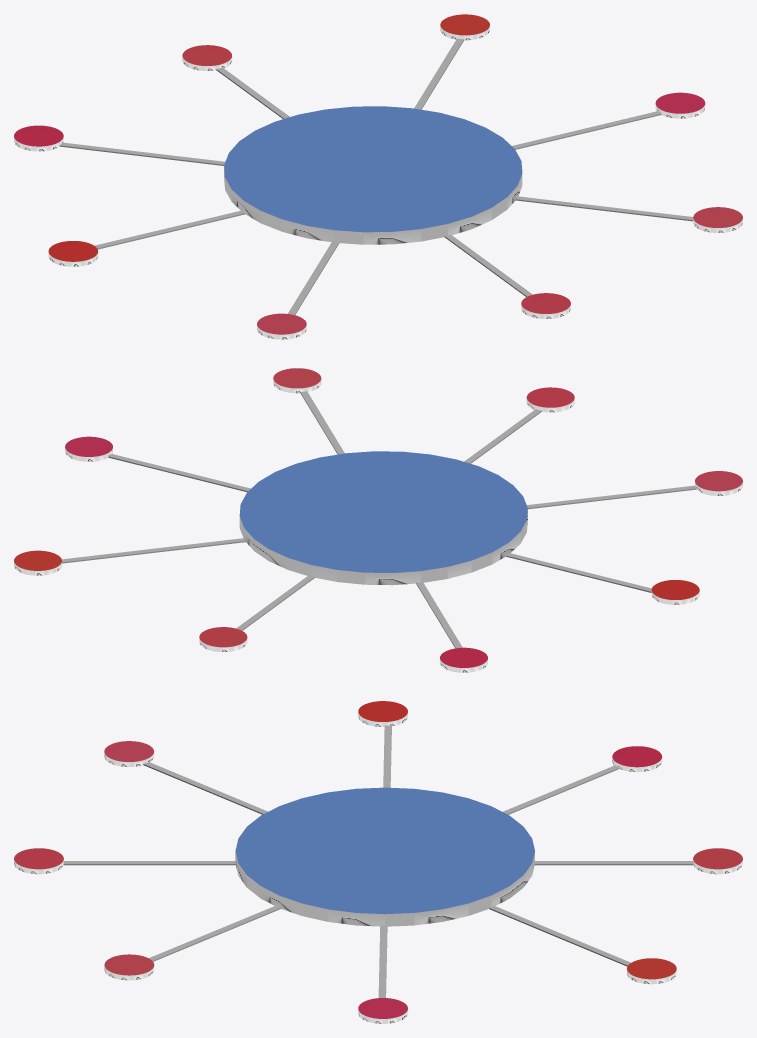
The model's file is showroom.glb.
3 views of the same model, one above another, from view 1: azimuth 30°, elevation 25°; view 2: azimuth 150°, elevation 25°; view 3: azimuth 270°, elevation 25° (orthographic). The views are drawn at different scales.
Visible parts, largest first — view 1: Cylinder, Cube.002, Cube.001, Cube.003, Cube, Cylinder.007, Cylinder.004, Cylinder.003, Cylinder.008, Cylinder.001, Cylinder.002, Cylinder.006 (+1 smaller); view 2: Cylinder, Cube.003, Cube.001, Cube, Cube.002, Cylinder.001, Cylinder.004, Cylinder.005, Cylinder.008, Cylinder.002, Cylinder.006, Cylinder.007 (+1 smaller); view 3: Cylinder, Cube, Cube.003, Cube.002, Cylinder.002, Cylinder.001, Cylinder.005, Cylinder.006, Cylinder.008, Cylinder.007, Cube.001, Cylinder.003 (+1 smaller).
Part boxes in pixels (box(x1,y1,x2,y2)): Cylinder: box(224, 106, 522, 244); Cube.002: box(59, 142, 693, 221); Cube.001: box(94, 111, 661, 249); Cube.003: box(288, 38, 464, 314); Cube: box(216, 67, 532, 296); Cylinder.007: box(257, 313, 306, 339); Cylinder.004: box(48, 241, 98, 266); Cylinder.003: box(655, 92, 705, 118); Cylinder.008: box(14, 125, 63, 151); Cylinder.001: box(521, 293, 570, 318); Cylinder.002: box(693, 207, 742, 232); Cylinder.006: box(440, 14, 489, 40); Cylinder: box(239, 451, 527, 585); Cube.003: box(62, 485, 696, 563); Cube.001: box(108, 454, 651, 592); Cube: box(236, 409, 541, 630); Cube.002: box(300, 391, 462, 648); Cylinder.001: box(526, 387, 574, 412); Cylinder.004: box(651, 580, 699, 604); Cylinder.005: box(199, 627, 247, 651); Cylinder.008: box(440, 647, 487, 672); Cylinder.002: box(273, 368, 321, 393); Cylinder.006: box(14, 550, 61, 575); Cylinder.007: box(695, 471, 742, 495); Cylinder: box(235, 787, 534, 926); Cube: box(63, 861, 693, 865); Cube.003: box(143, 762, 630, 966); Cube.002: box(149, 765, 619, 961); Cylinder.002: box(104, 954, 154, 980); Cylinder.001: box(14, 848, 63, 874); Cylinder.005: box(693, 848, 742, 874); Cylinder.006: box(627, 958, 676, 984); Cylinder.008: box(612, 746, 662, 772); Cylinder.007: box(104, 741, 154, 766); Cube.001: box(378, 725, 391, 997); Cylinder.003: box(358, 998, 407, 1023).
Bounding box in the file's own units: 15.07 × 0.2836 × 14.6.
